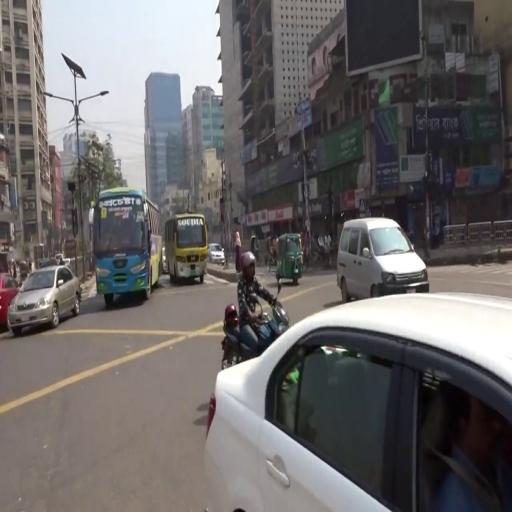bus: (91, 186, 163, 296), (165, 215, 209, 281)
car: (204, 295, 512, 512), (7, 267, 82, 328), (209, 242, 226, 265)
minivan: (337, 217, 431, 298)
motorbike: (221, 299, 291, 370)
rickshaw: (313, 234, 337, 271), (267, 235, 278, 270), (251, 234, 262, 266), (19, 260, 28, 280)
three wheelers (CNG): (275, 232, 303, 283)
